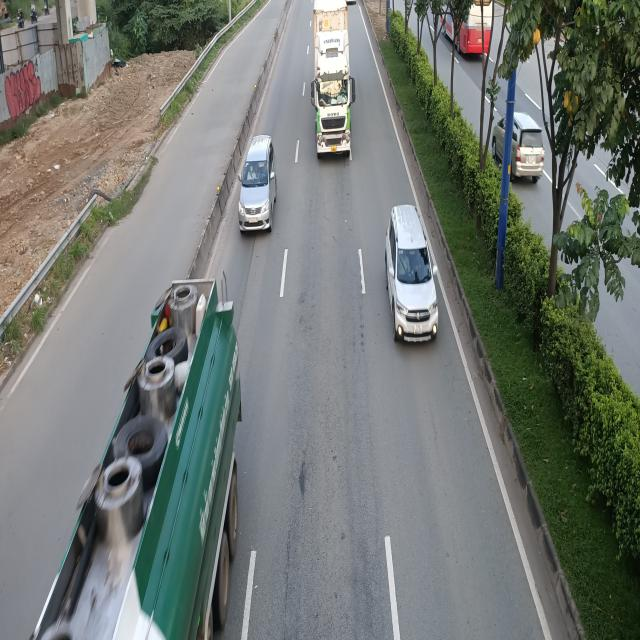car: (386, 204, 439, 344), (237, 137, 278, 237)
container: (25, 276, 242, 640), (310, 0, 355, 161)
